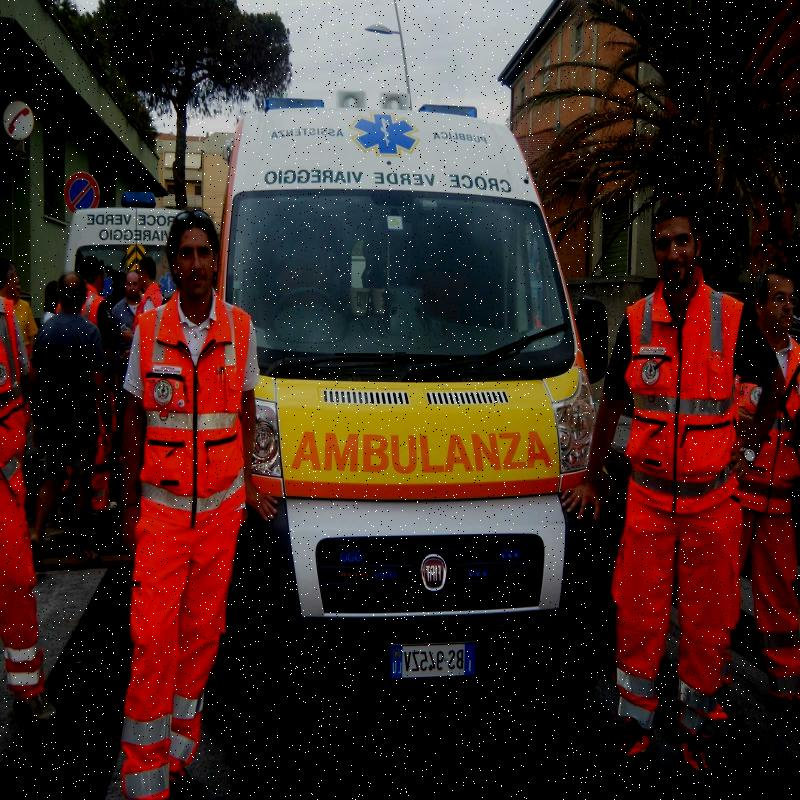AmbulanceSiren: (252, 80, 511, 130)
